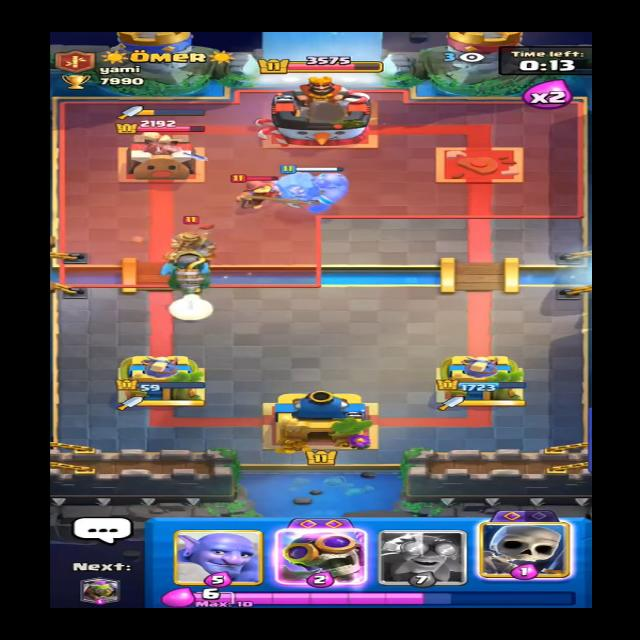fisherman: (231, 170, 302, 213)
prince: (164, 217, 222, 264)
